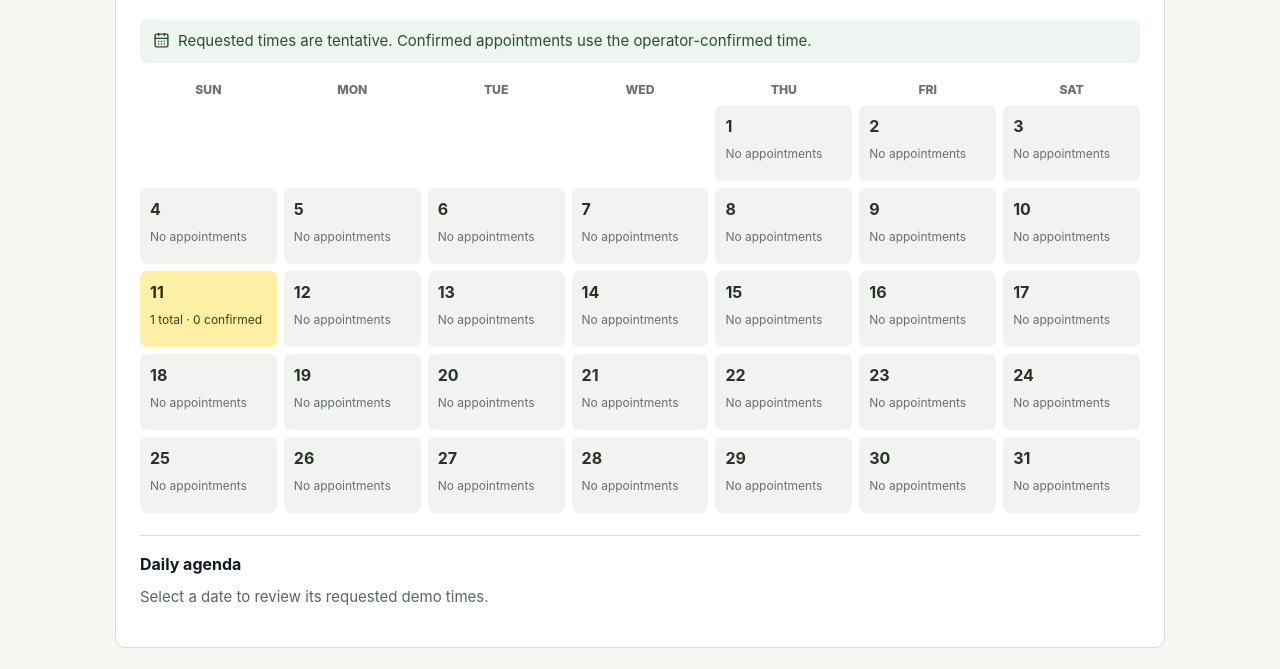
PlatformDemoRequestsPage › shows requested-time counts and a daily agenda without claiming confirmation
(page scrolled)
Expected: the text "Requested times are tentative" is shown, x1=178 y1=31 x2=812 y2=50
Click the button "11 1 total · 0 confirmed" at [208, 309], box x1=140 y1=271 x2=277 y2=347
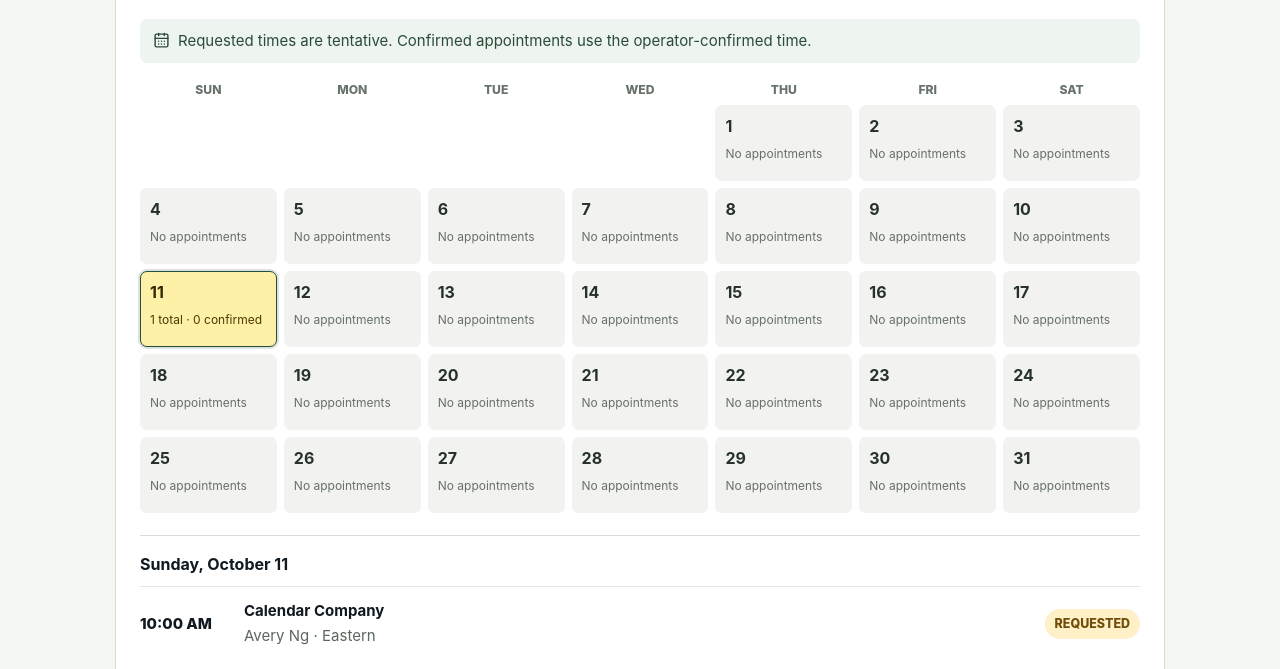
Expected: the text "Requested" is shown, x1=1044 y1=609 x2=1140 y2=639
Expected: the text "Calendar Company" is shown, x1=244 y1=601 x2=384 y2=620
